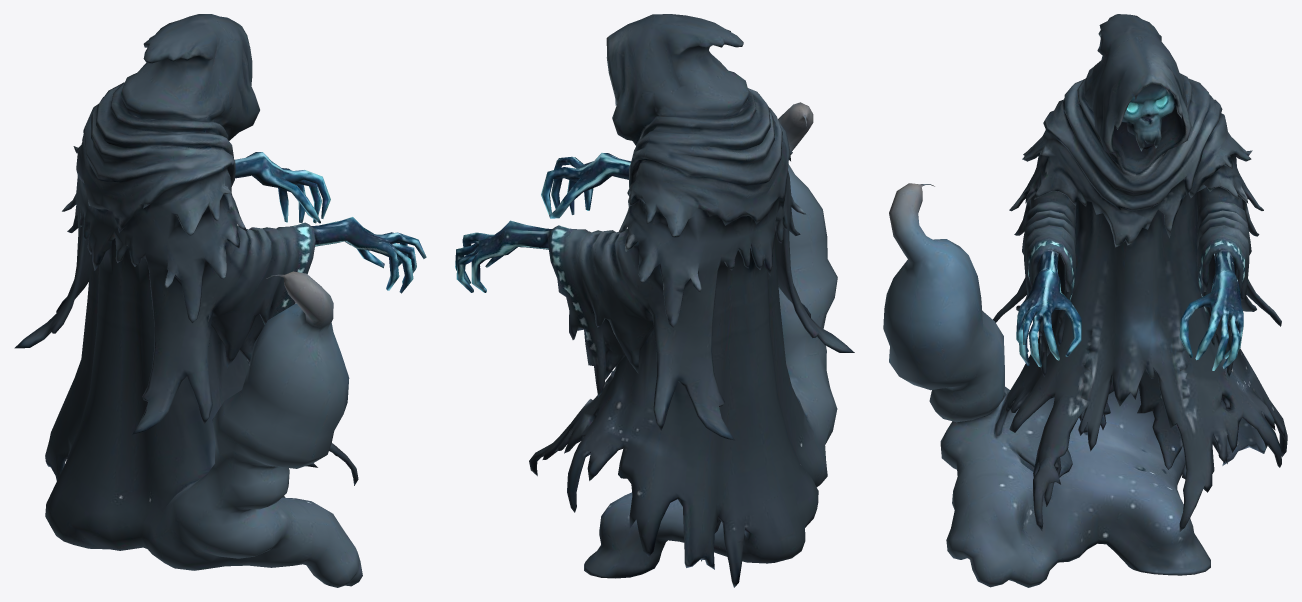
Rendered from wraith.glb.
The picture shows the model from 3 angles, left to right: view 1: azimuth 30°, elevation 25°; view 2: azimuth 150°, elevation 25°; view 3: azimuth 270°, elevation 25°; orthographic projection. The views are drawn at different scales.
Visible parts, largest first — view 1: tripo_node_fdfe5973-79e0-49d6-b11d-be736844c3d3; view 2: tripo_node_fdfe5973-79e0-49d6-b11d-be736844c3d3; view 3: tripo_node_fdfe5973-79e0-49d6-b11d-be736844c3d3.
Boxes of the visible parts, x1,y1,x2,y2 form: tripo_node_fdfe5973-79e0-49d6-b11d-be736844c3d3: [14, 14, 426, 587]; tripo_node_fdfe5973-79e0-49d6-b11d-be736844c3d3: [455, 14, 854, 587]; tripo_node_fdfe5973-79e0-49d6-b11d-be736844c3d3: [883, 14, 1287, 587].
Bounding box in the file's own units: 0.59 × 0.9758 × 0.6855.
1 material, 1 textured.
